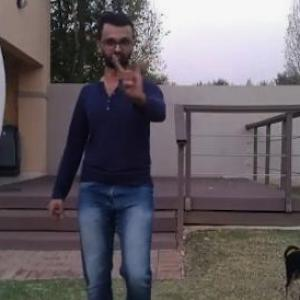takeoff-hand: (114, 50, 153, 104)
